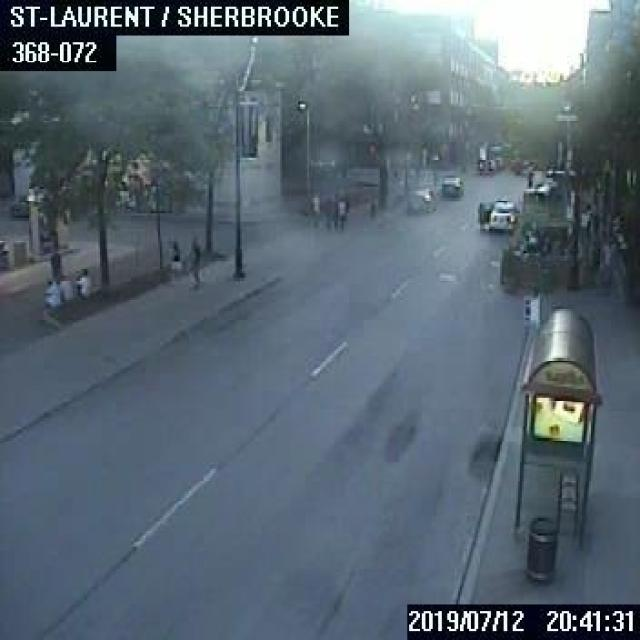pedestrian: (183, 236, 199, 288), (167, 236, 181, 288), (305, 189, 320, 227), (73, 266, 90, 298), (42, 278, 59, 304), (59, 272, 72, 302), (474, 196, 486, 227), (336, 195, 346, 230), (320, 194, 330, 228), (331, 192, 338, 227)
vehicle: (482, 196, 514, 227), (404, 183, 435, 213), (439, 174, 462, 196), (9, 193, 28, 218), (478, 158, 493, 174)
